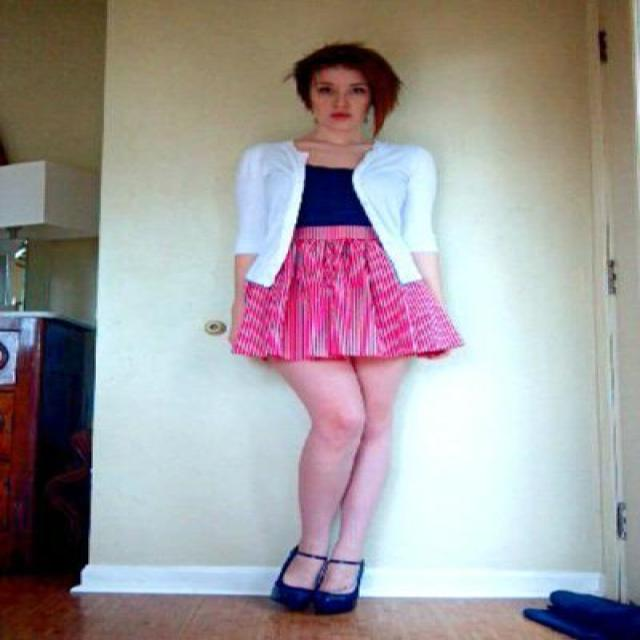jacket: (227, 141, 459, 286)
shirt: (296, 167, 370, 230)
shoe: (270, 550, 364, 614)
skirt: (232, 224, 462, 371)
